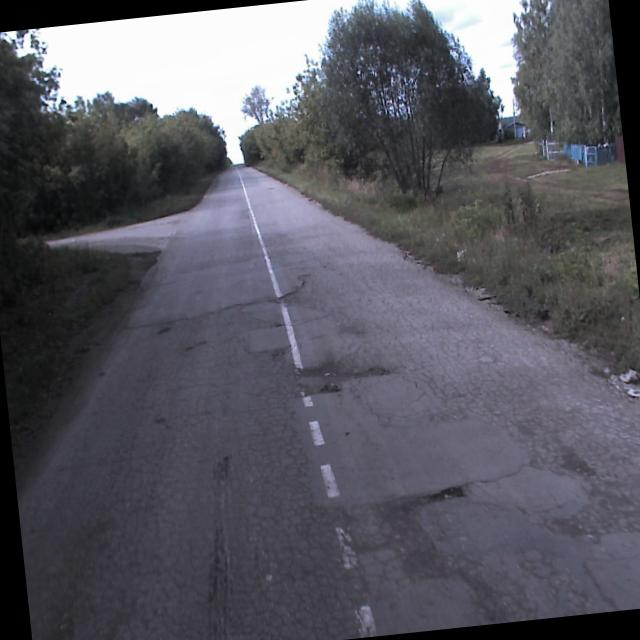road: (17, 163, 640, 640)
